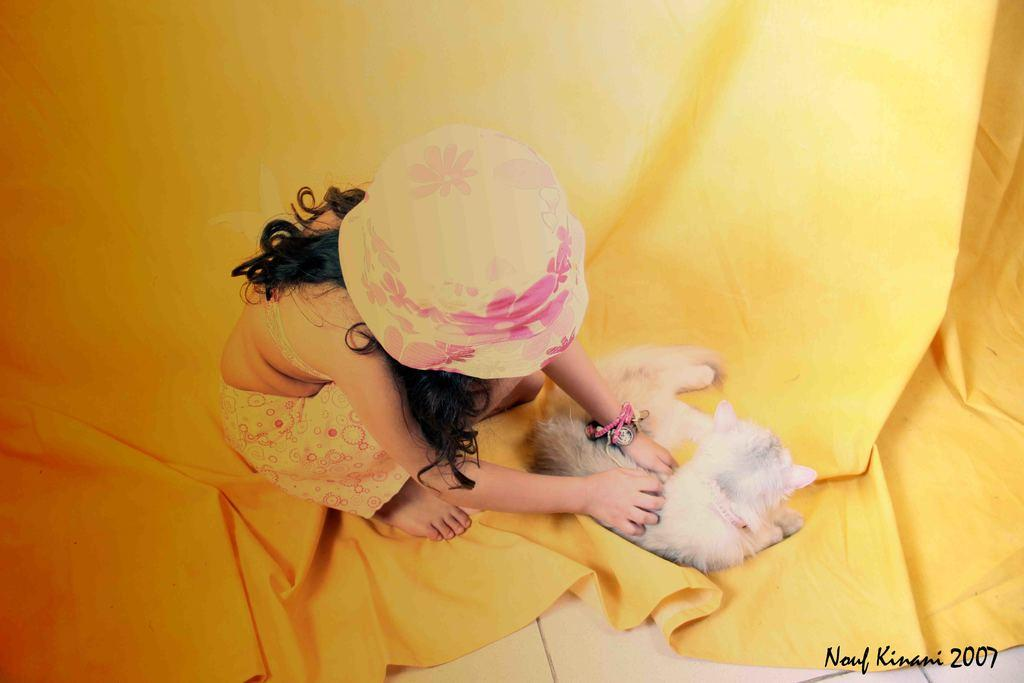Hat: (338, 124, 590, 379)
